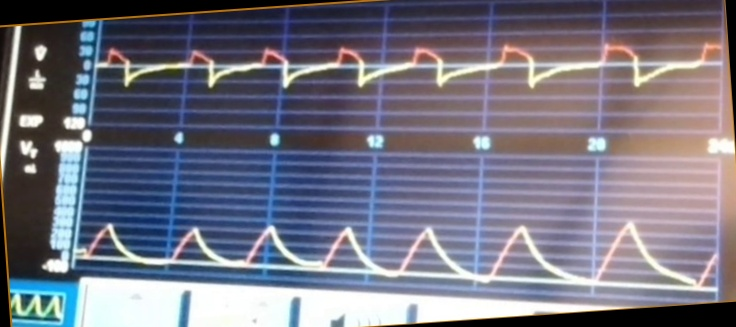Normal Flow: (101, 23, 721, 122)
Normal Volume: (78, 204, 718, 287)
